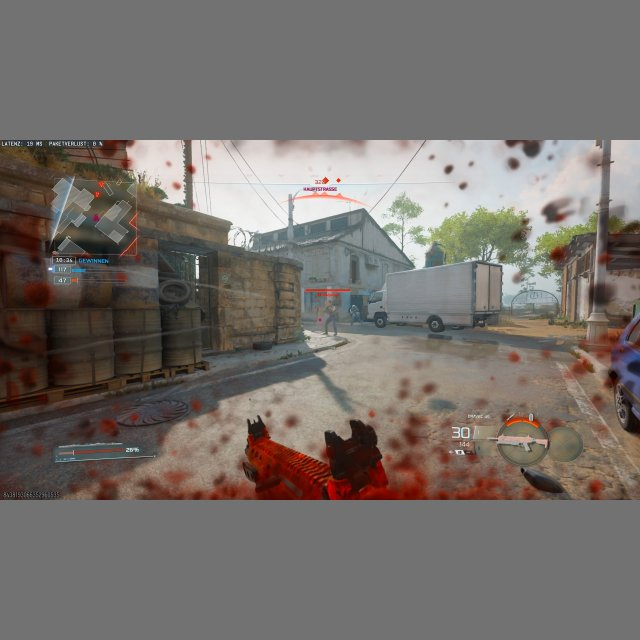head: (328, 298, 333, 304)
player: (323, 299, 339, 336), (348, 304, 360, 324)
